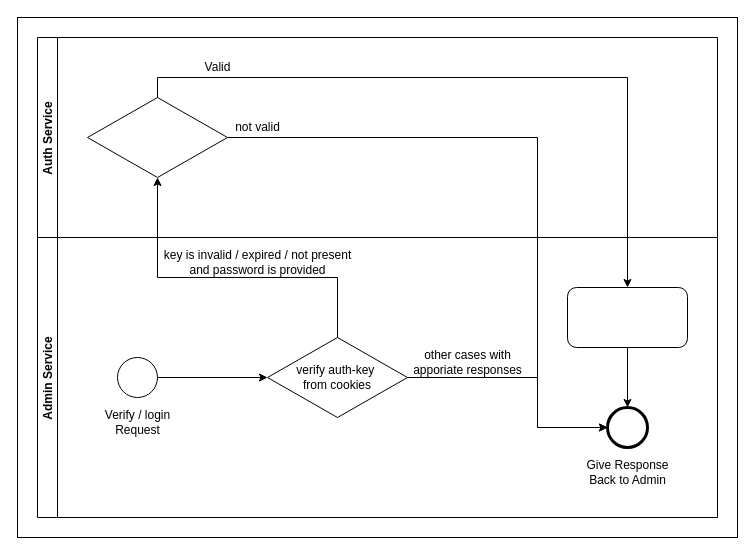
This 755x555 diagram has some shape labels left out. The shapes that lost their labels are listed below. From the top down, each one's box as (x1, y1, x2, y2) in pixels, then its label:
(86, 96, 228, 178): verify hash
(566, 286, 688, 348): Generate auth-key and save in cookies
